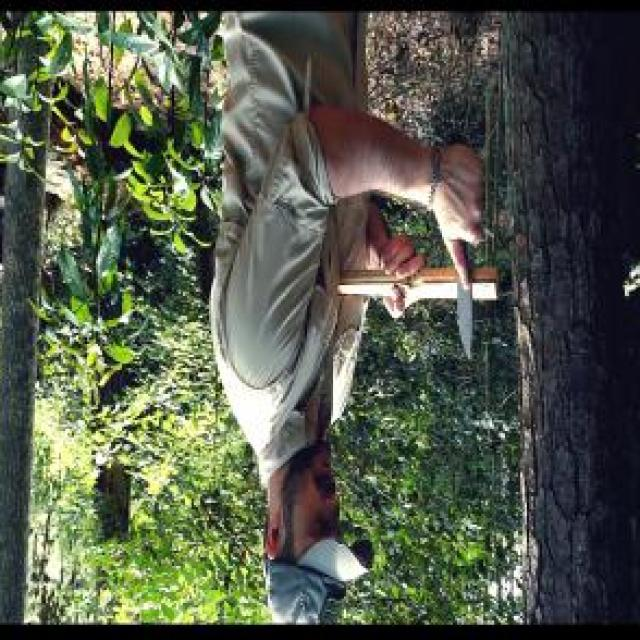knife: (444, 176, 484, 366)
